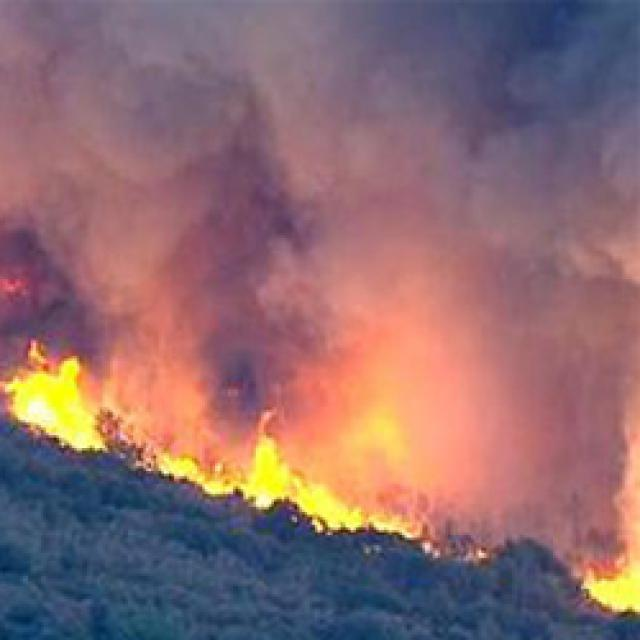Fire: (168, 407, 422, 536), (0, 338, 112, 456), (583, 570, 640, 616)
Smoke: (0, 2, 640, 335), (209, 331, 640, 406), (289, 403, 640, 488), (421, 485, 640, 569), (108, 330, 213, 457)
